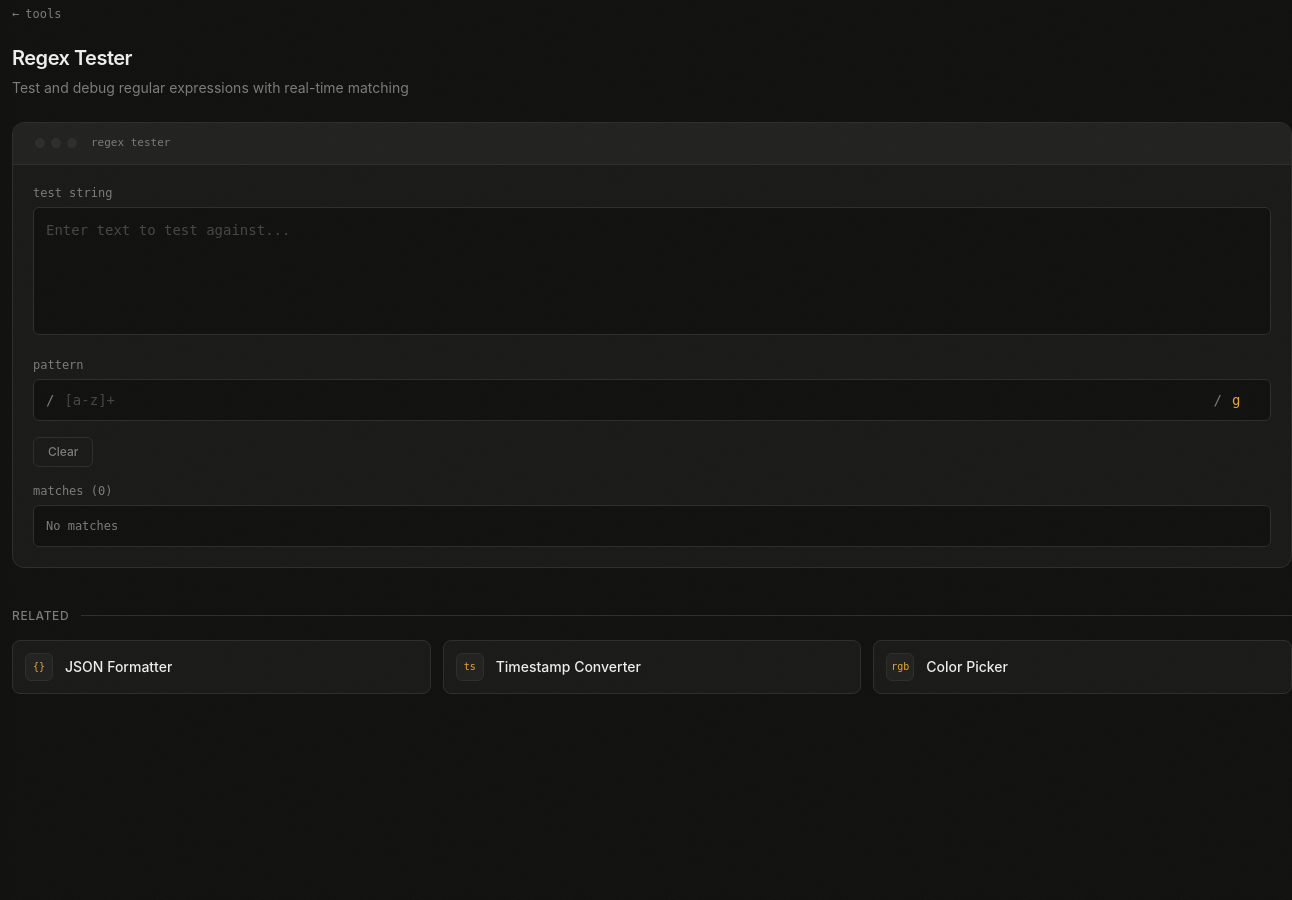
Test: Regex Tester › shows match positions
Type "hello" into the field with placeholder "[a-z]+" at x=634, y=400, box [54,380,1214,420]
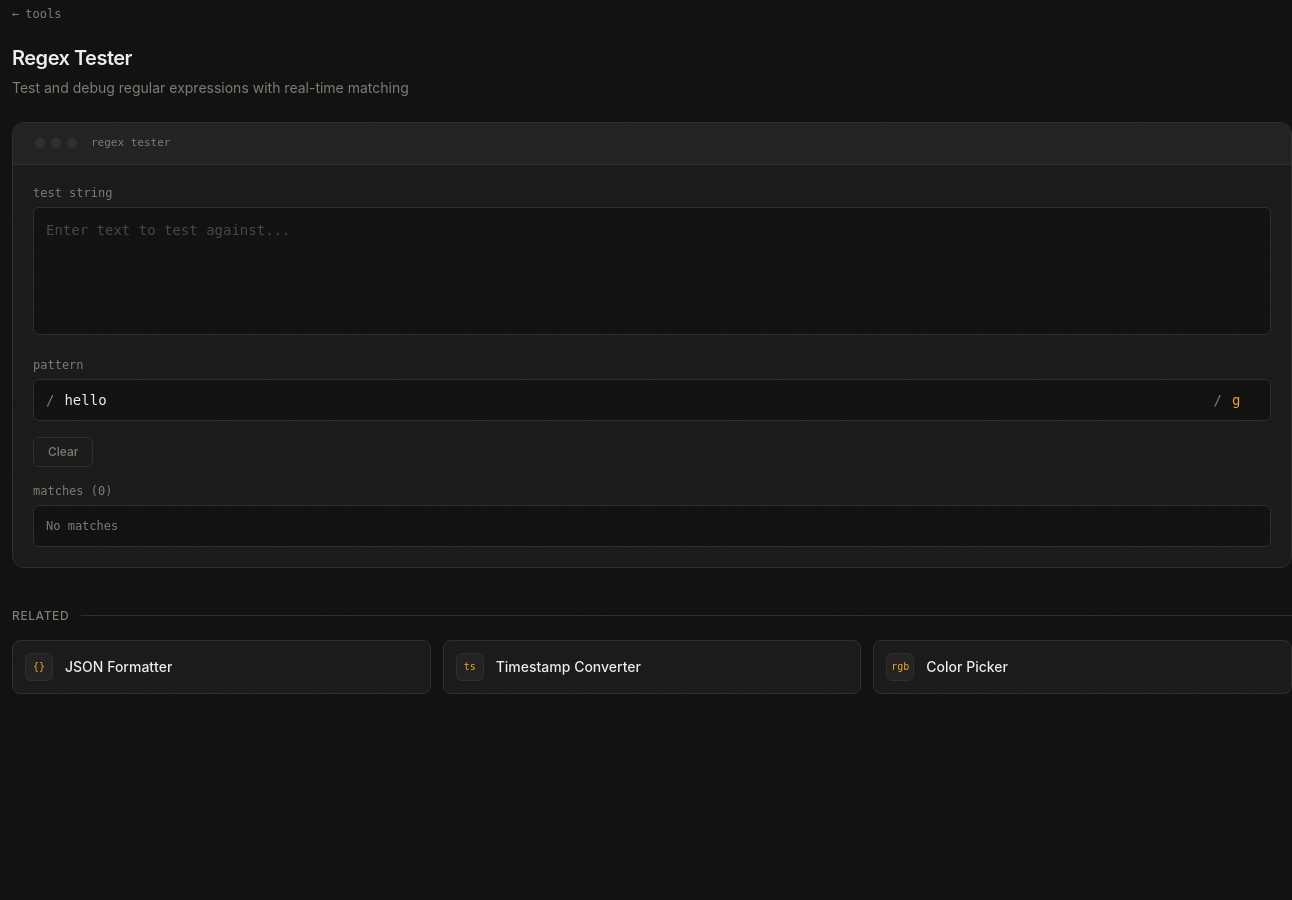
Type "say hello world" into the text box with placeholder "Enter text to test against..." at x=652, y=270, box [33,206,1271,334]
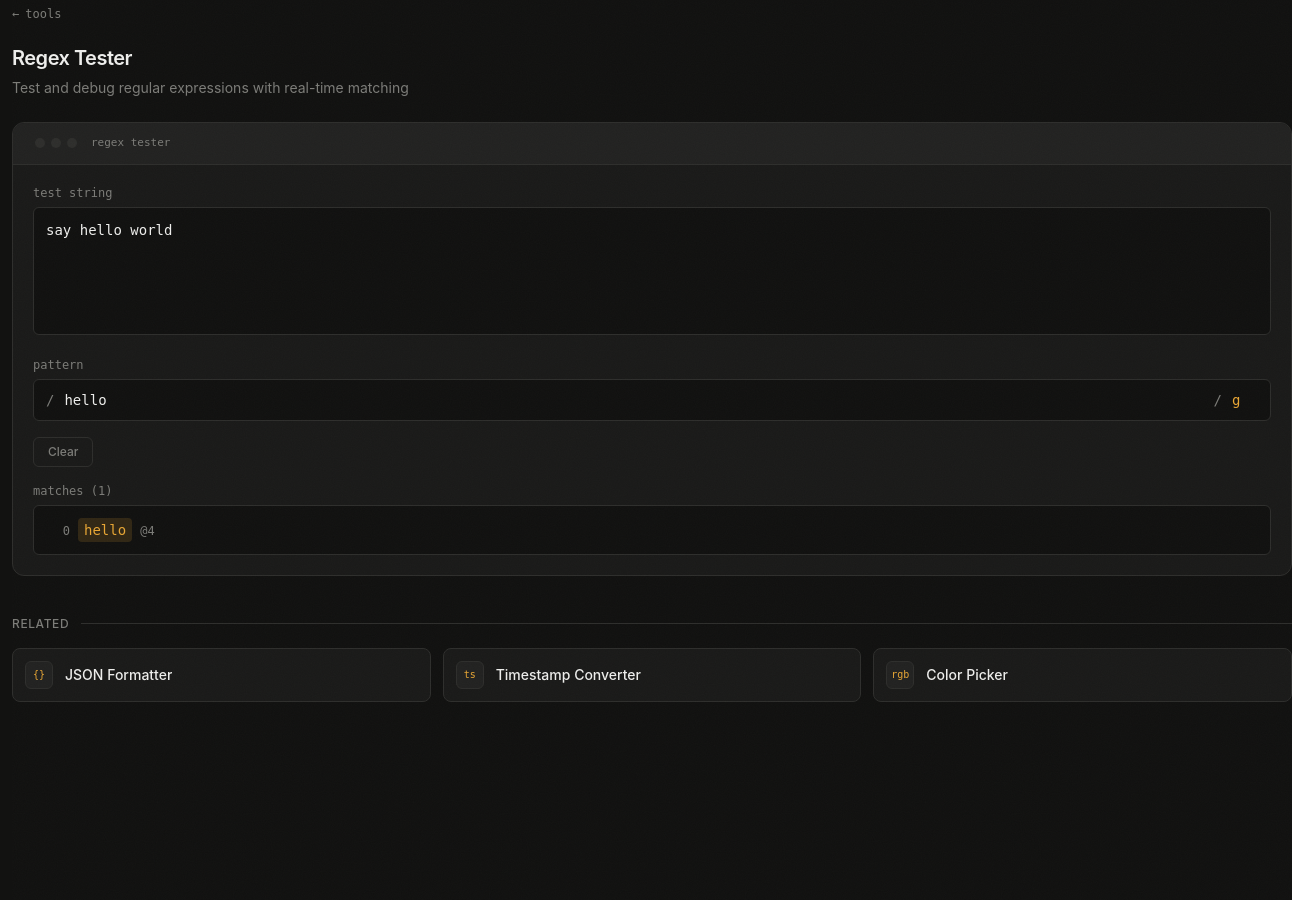
Now the text "@4" is shown, box [140,522,155,538]
